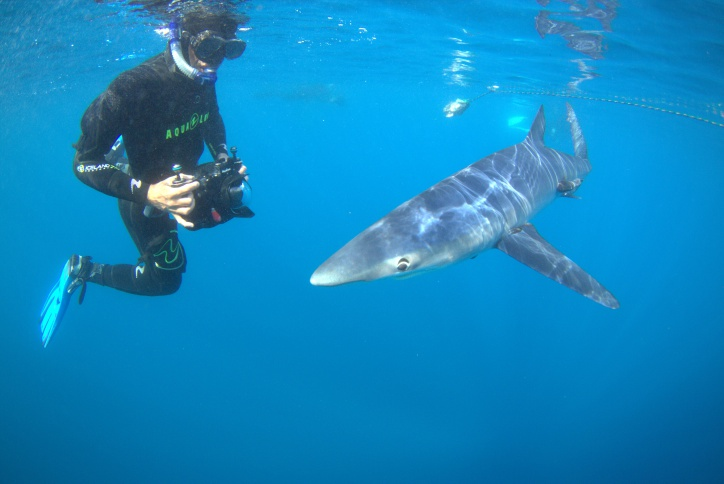Azul: (305, 93, 688, 336)
